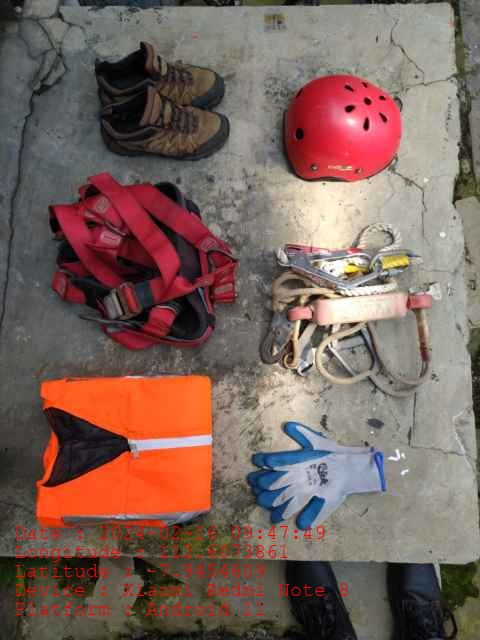HELM: (282, 75, 402, 184)
ROMPI: (35, 372, 215, 528)
SARUNG_TANGAN: (246, 422, 386, 527)
SEPATU: (93, 42, 231, 162)
TAMBANG_SLING: (259, 220, 438, 394)
